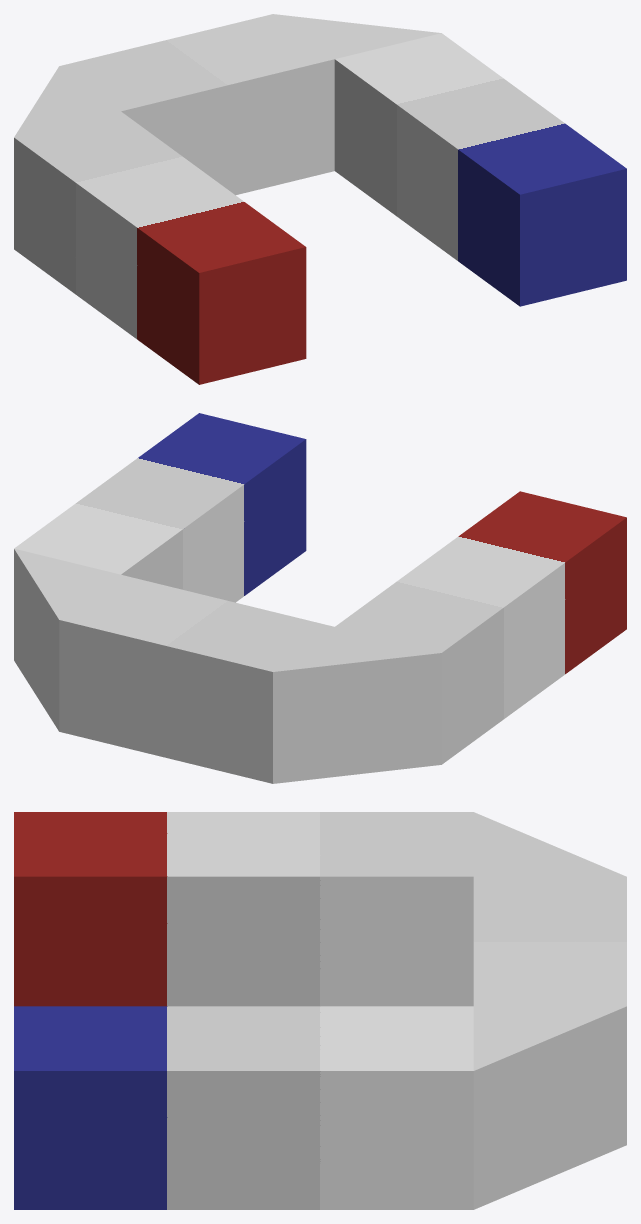
Rendered from magnet.obj.
The picture shows the model from 3 angles, top to bottom: view 1: azimuth 30°, elevation 25°; view 2: azimuth 150°, elevation 25°; view 3: azimuth 270°, elevation 25°; orthographic projection. The views are drawn at different scales.
Visible parts, largest first — view 1: cuboid; view 2: cuboid; view 3: cuboid.
Part boxes in pixels (x1,y1,x2,y2): cuboid: (14, 14, 626, 384); cuboid: (14, 413, 626, 783); cuboid: (14, 812, 626, 1209).
Bounding box in the file's own units: 0.25 × 0.0625 × 0.25.
